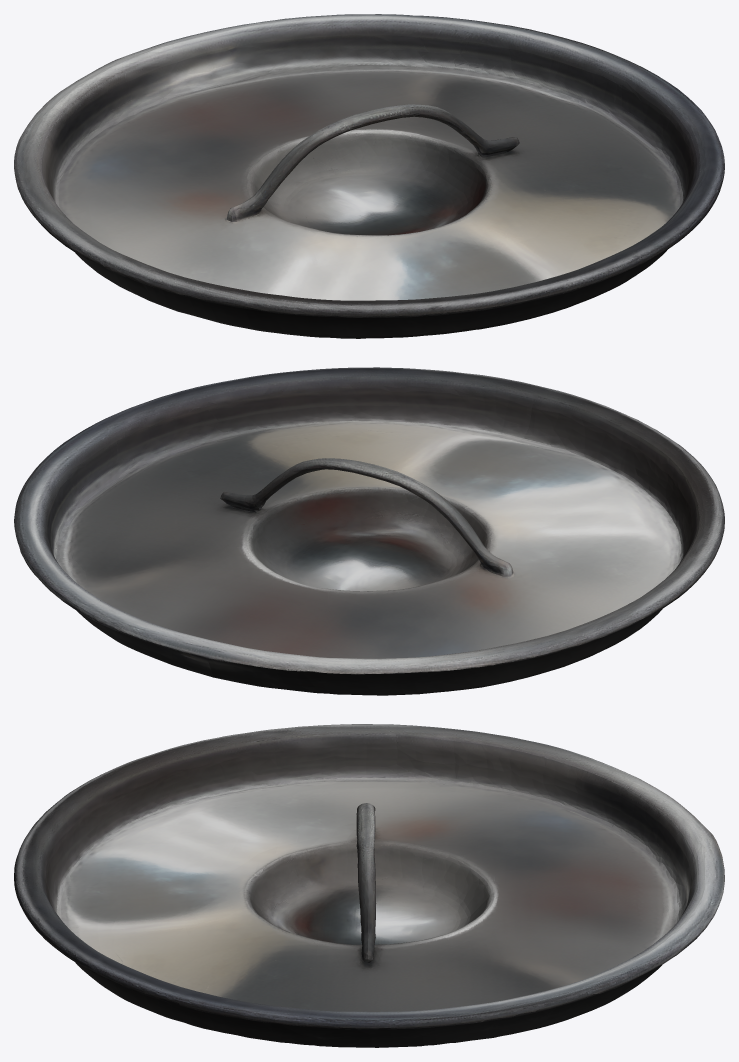
3 renders of one model, top to bottom at view 1: azimuth 30°, elevation 25°; view 2: azimuth 150°, elevation 25°; view 3: azimuth 270°, elevation 25°, orthographic.
Visible parts, largest first — view 1: world; view 2: world; view 3: world.
Part boxes in pixels (box(x1,y1,x2,y2)): world: box(14, 14, 724, 338); world: box(14, 367, 724, 695); world: box(14, 724, 724, 1047).
Bounding box in the file's own units: 0.1271 × 0.0221 × 0.1275.
1 material, 1 textured.
